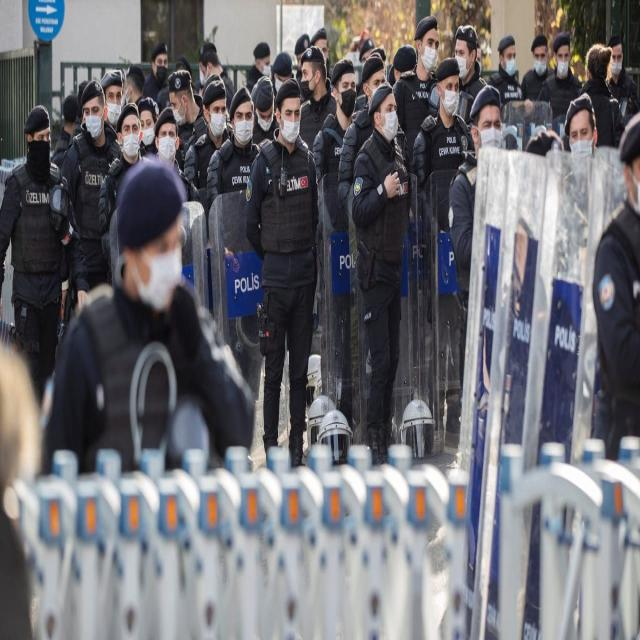police: (33, 162, 244, 600), (410, 0, 512, 498), (164, 61, 261, 469), (301, 44, 377, 462), (250, 78, 312, 460), (359, 92, 428, 434), (57, 70, 124, 340), (0, 104, 62, 393)
